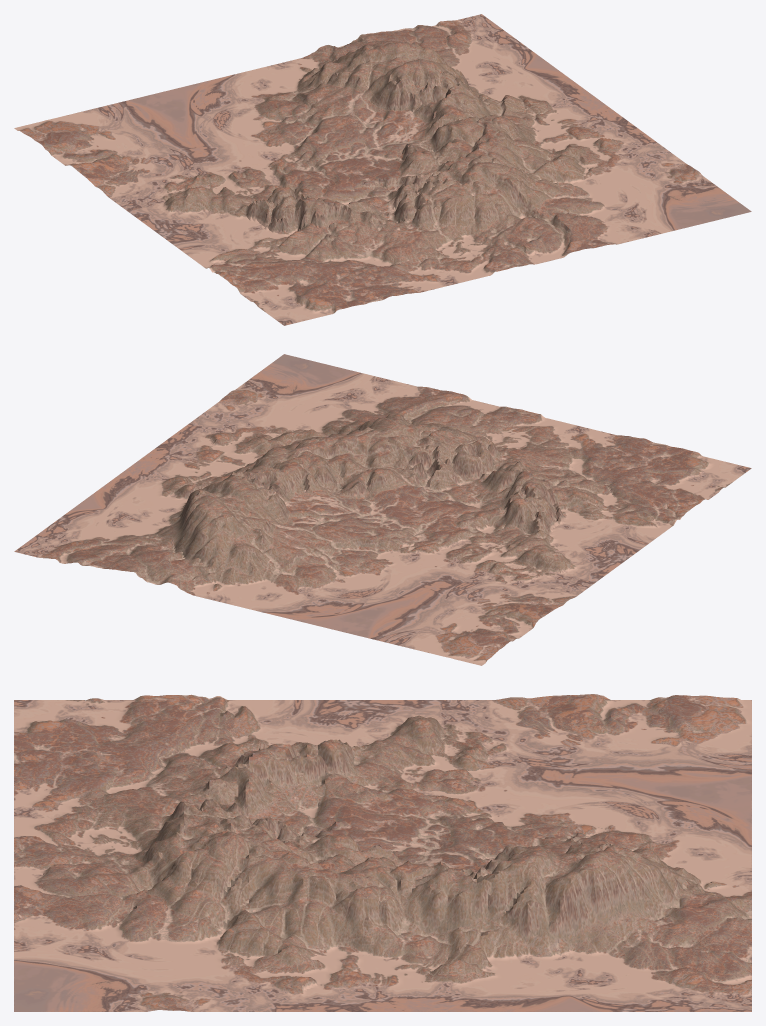
Rendered from Apex1.glb.
3 views of the same model, one above another, from view 1: azimuth 30°, elevation 25°; view 2: azimuth 150°, elevation 25°; view 3: azimuth 270°, elevation 25° (orthographic). The views are drawn at different scales.
Visible parts, largest first — view 1: Mesher; view 2: Mesher; view 3: Mesher.
Part boxes in pixels (left/top/right/bottom): Mesher: left=14, top=14, right=751, bottom=325; Mesher: left=14, top=354, right=751, bottom=665; Mesher: left=14, top=694, right=751, bottom=1011.
Bounding box in the file's own units: 50 × 4.81 × 50.
Materials: 1 (1 with a texture image).
